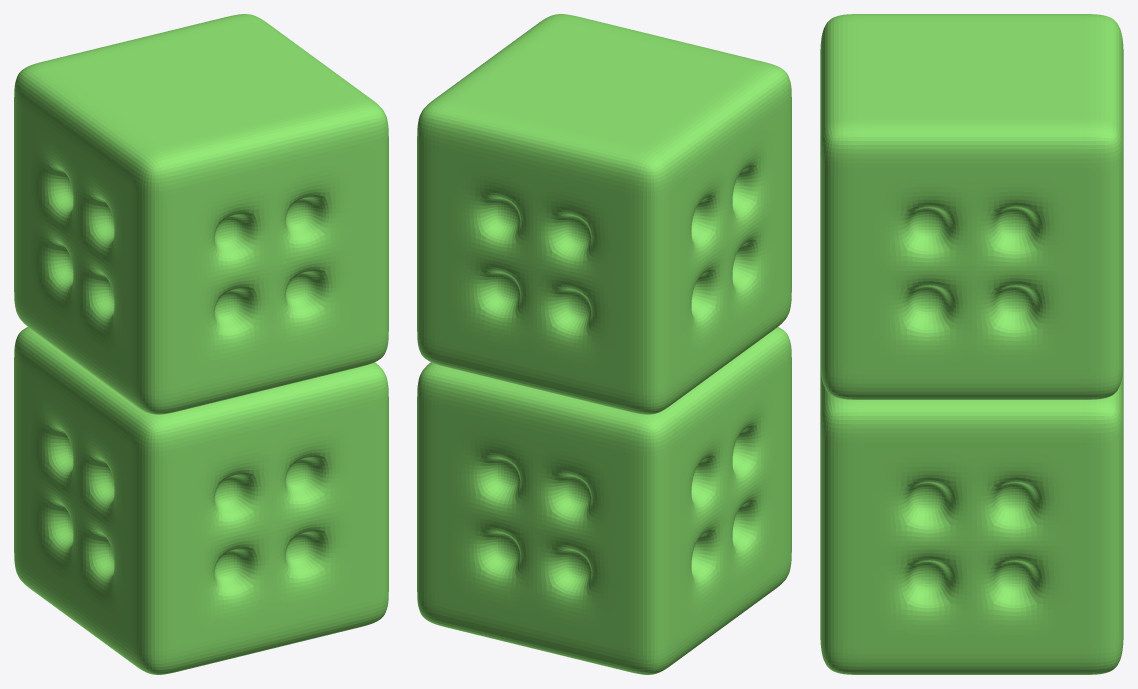
Rendered from green_1_2_1.fbx.
The picture shows the model from 3 angles, left to right: view 1: azimuth 30°, elevation 25°; view 2: azimuth 150°, elevation 25°; view 3: azimuth 270°, elevation 25°; orthographic projection. The views are drawn at different scales.
Visible parts, largest first — view 1: Cube.003, Cube.001; view 2: Cube.003, Cube.001; view 3: Cube.003, Cube.001.
Boxes of the visible parts, x1,y1,x2,y2 form: Cube.003: [14, 14, 388, 414]; Cube.001: [14, 327, 388, 674]; Cube.003: [417, 14, 791, 414]; Cube.001: [417, 327, 791, 674]; Cube.003: [820, 14, 1123, 399]; Cube.001: [820, 365, 1123, 674].
Bounding box in the file's own units: 200 × 400 × 200.
